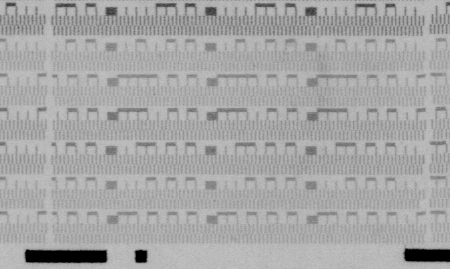Oblique printing: (312, 25, 324, 40)
